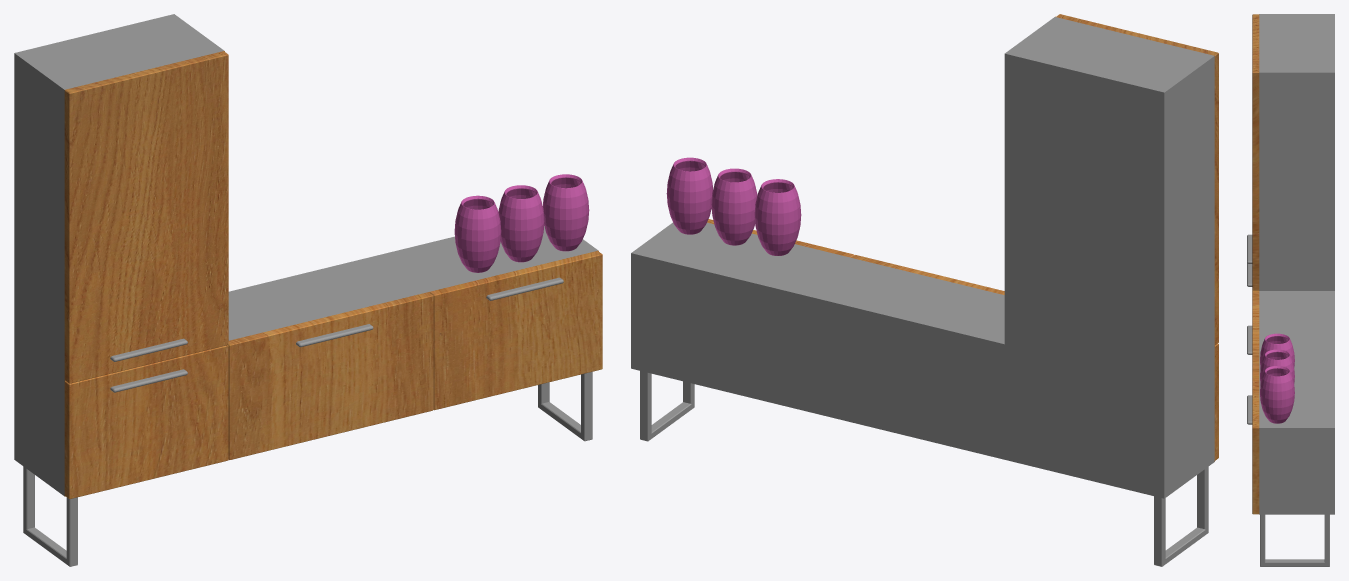
File: LivingFurniture1.obj
3 renders of one model, left to right at view 1: azimuth 30°, elevation 25°; view 2: azimuth 150°, elevation 25°; view 3: azimuth 270°, elevation 25°, orthographic. The views are drawn at different scales.
Parts seen in each view (by area): view 1: _cian__cianka_TV, _cian, _cian_Sphere_2, _cian_Sphere, _cian_Sphere_3, _cian_Cube_1, _cian_Cube_1_Cube1; view 2: _cian, _cian__cianka_TV, _cian_Sphere_2, _cian_Sphere, _cian_Sphere_3, _cian_Cube_1, _cian_Cube_1_Cube1; view 3: _cian, _cian__cianka_TV, _cian_Sphere, _cian_Cube_1_Cube1, _cian_Sphere_3, _cian_Sphere_2, _cian_Cube, _cian_Cube_Cube_3, _cian_Cube_Cube_4, _cian_Cube_Cube_5.
Part boxes in pixels (x1,y1,x2,y2): _cian__cianka_TV: (64, 51, 602, 499); _cian: (14, 14, 597, 496); _cian_Sphere_2: (454, 195, 501, 272); _cian_Sphere: (542, 174, 589, 251); _cian_Sphere_3: (498, 185, 544, 262); _cian_Cube_1: (23, 466, 77, 566); _cian_Cube_1_Cube1: (538, 371, 592, 441); _cian: (631, 17, 1214, 498); _cian__cianka_TV: (707, 14, 1218, 461); _cian_Sphere_2: (754, 179, 801, 255); _cian_Sphere: (666, 157, 712, 234); _cian_Sphere_3: (711, 168, 757, 245); _cian_Cube_1: (1154, 466, 1208, 566); _cian_Cube_1_Cube1: (640, 371, 694, 441); _cian: (1259, 14, 1334, 514); _cian__cianka_TV: (1252, 14, 1259, 514); _cian_Sphere: (1260, 366, 1294, 423); _cian_Cube_1_Cube1: (1260, 514, 1329, 566); _cian_Sphere_3: (1260, 349, 1294, 384); _cian_Sphere_2: (1260, 333, 1294, 367); _cian_Cube: (1247, 234, 1252, 263); _cian_Cube_Cube_3: (1247, 395, 1252, 424); _cian_Cube_Cube_4: (1247, 325, 1252, 354); _cian_Cube_Cube_5: (1247, 263, 1252, 286).
Bounding box in the file's own units: 214 × 184 × 40.77.
3 materials, 1 textured.
